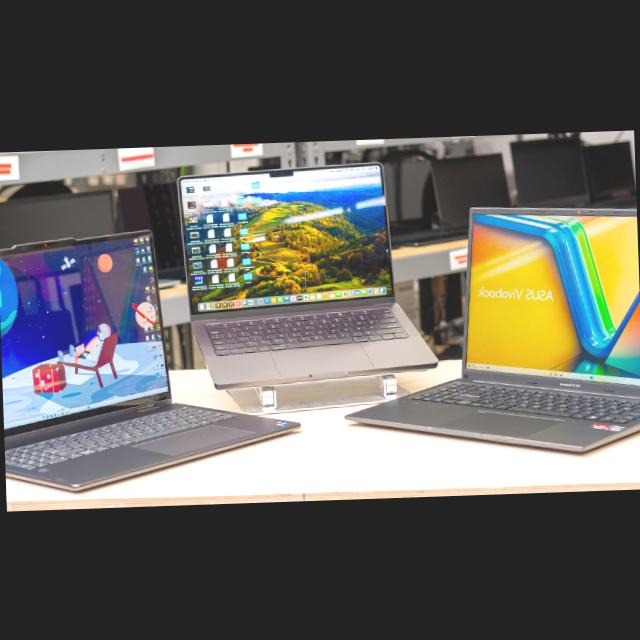laptop: (0, 219, 309, 490), (333, 194, 640, 450), (178, 154, 420, 387)
